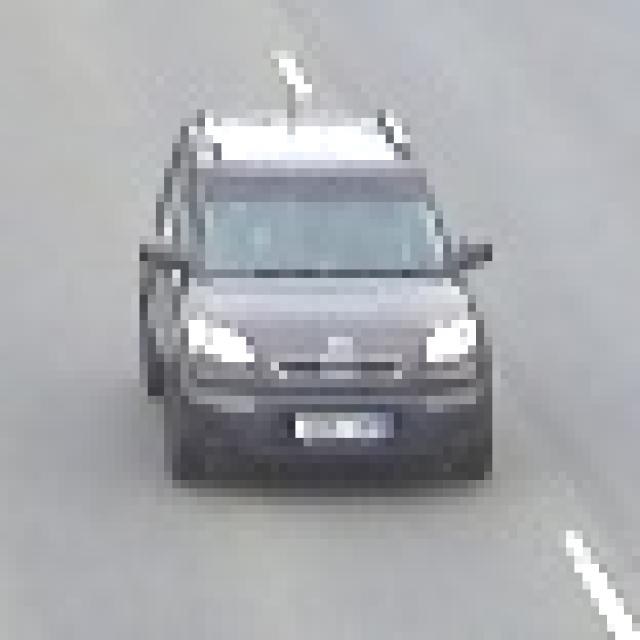SUV: (156, 118, 488, 480)
